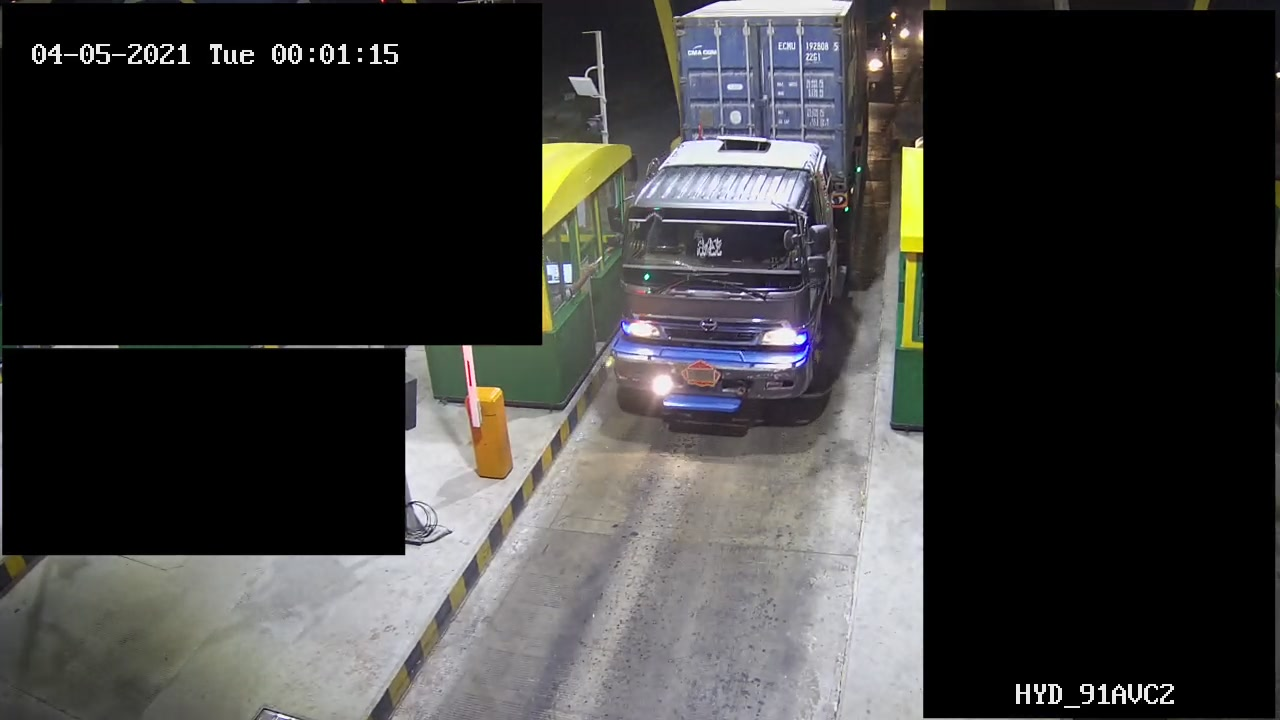F6: (601, 1, 869, 435)
